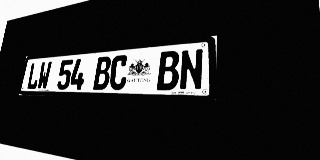4: (69, 58, 87, 90)
5: (56, 59, 73, 90)
B: (157, 50, 180, 90), (93, 56, 112, 90)
C: (109, 55, 129, 90)
L: (26, 62, 41, 90)
N: (179, 48, 204, 90)
W: (36, 61, 52, 90)
